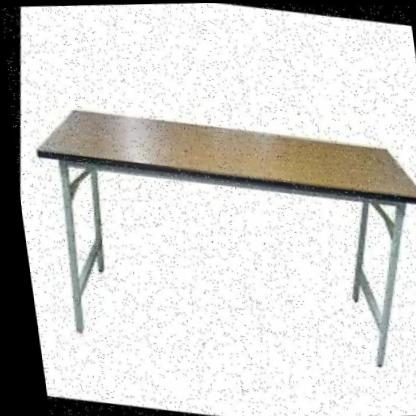Table: (7, 85, 416, 389)
